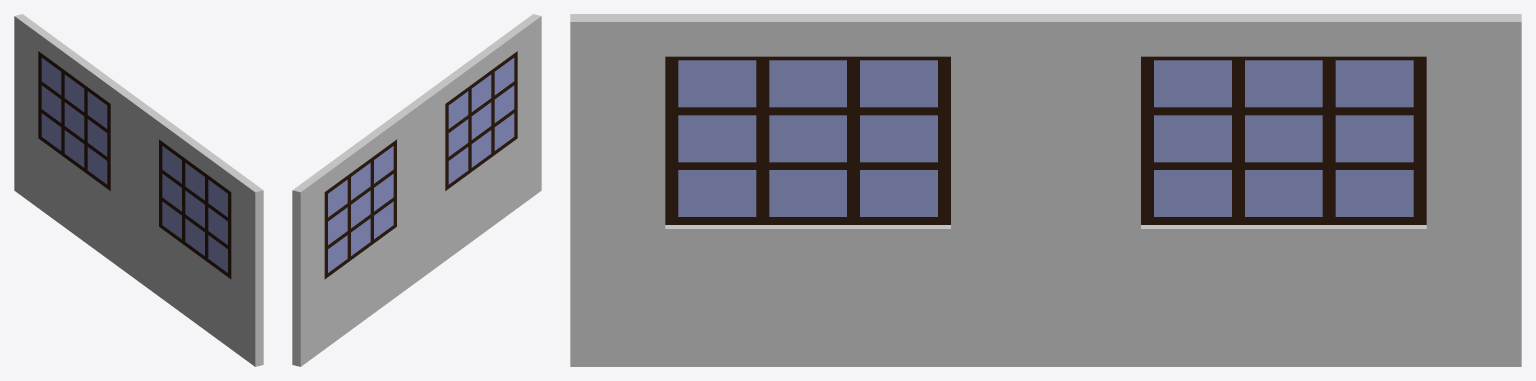
Rendered from SM_RightWall.fbx.
The picture shows the model from 3 angles, left to right: view 1: azimuth 30°, elevation 25°; view 2: azimuth 150°, elevation 25°; view 3: azimuth 270°, elevation 25°; orthographic projection. The views are drawn at different scales.
Parts seen in each view (by area): view 1: Wall, Windows; view 2: Wall, Windows; view 3: Wall, Windows.
Part boxes in pixels (box(x1,y1,x2,y2)): Wall: box(14, 14, 263, 366); Windows: box(38, 51, 231, 279); Wall: box(292, 14, 541, 366); Windows: box(324, 51, 517, 279); Wall: box(570, 14, 1521, 366); Windows: box(665, 56, 1426, 224).
Size of the model in its own units: 10 by 200 by 500.
